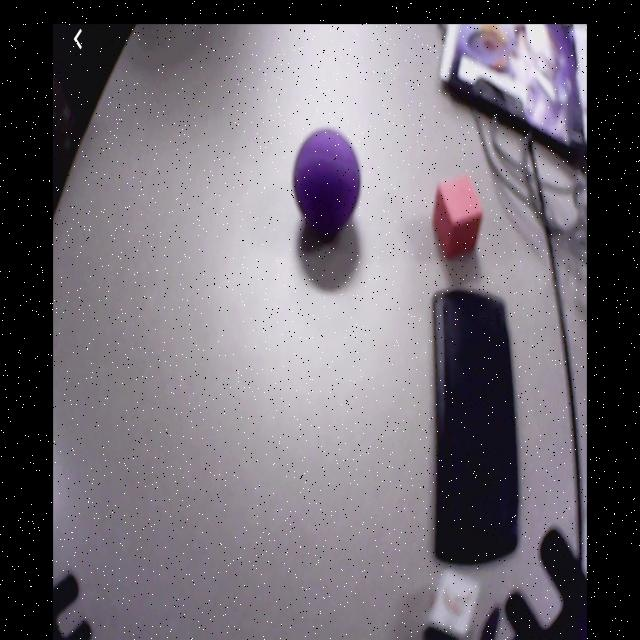ball: (294, 130, 362, 236)
